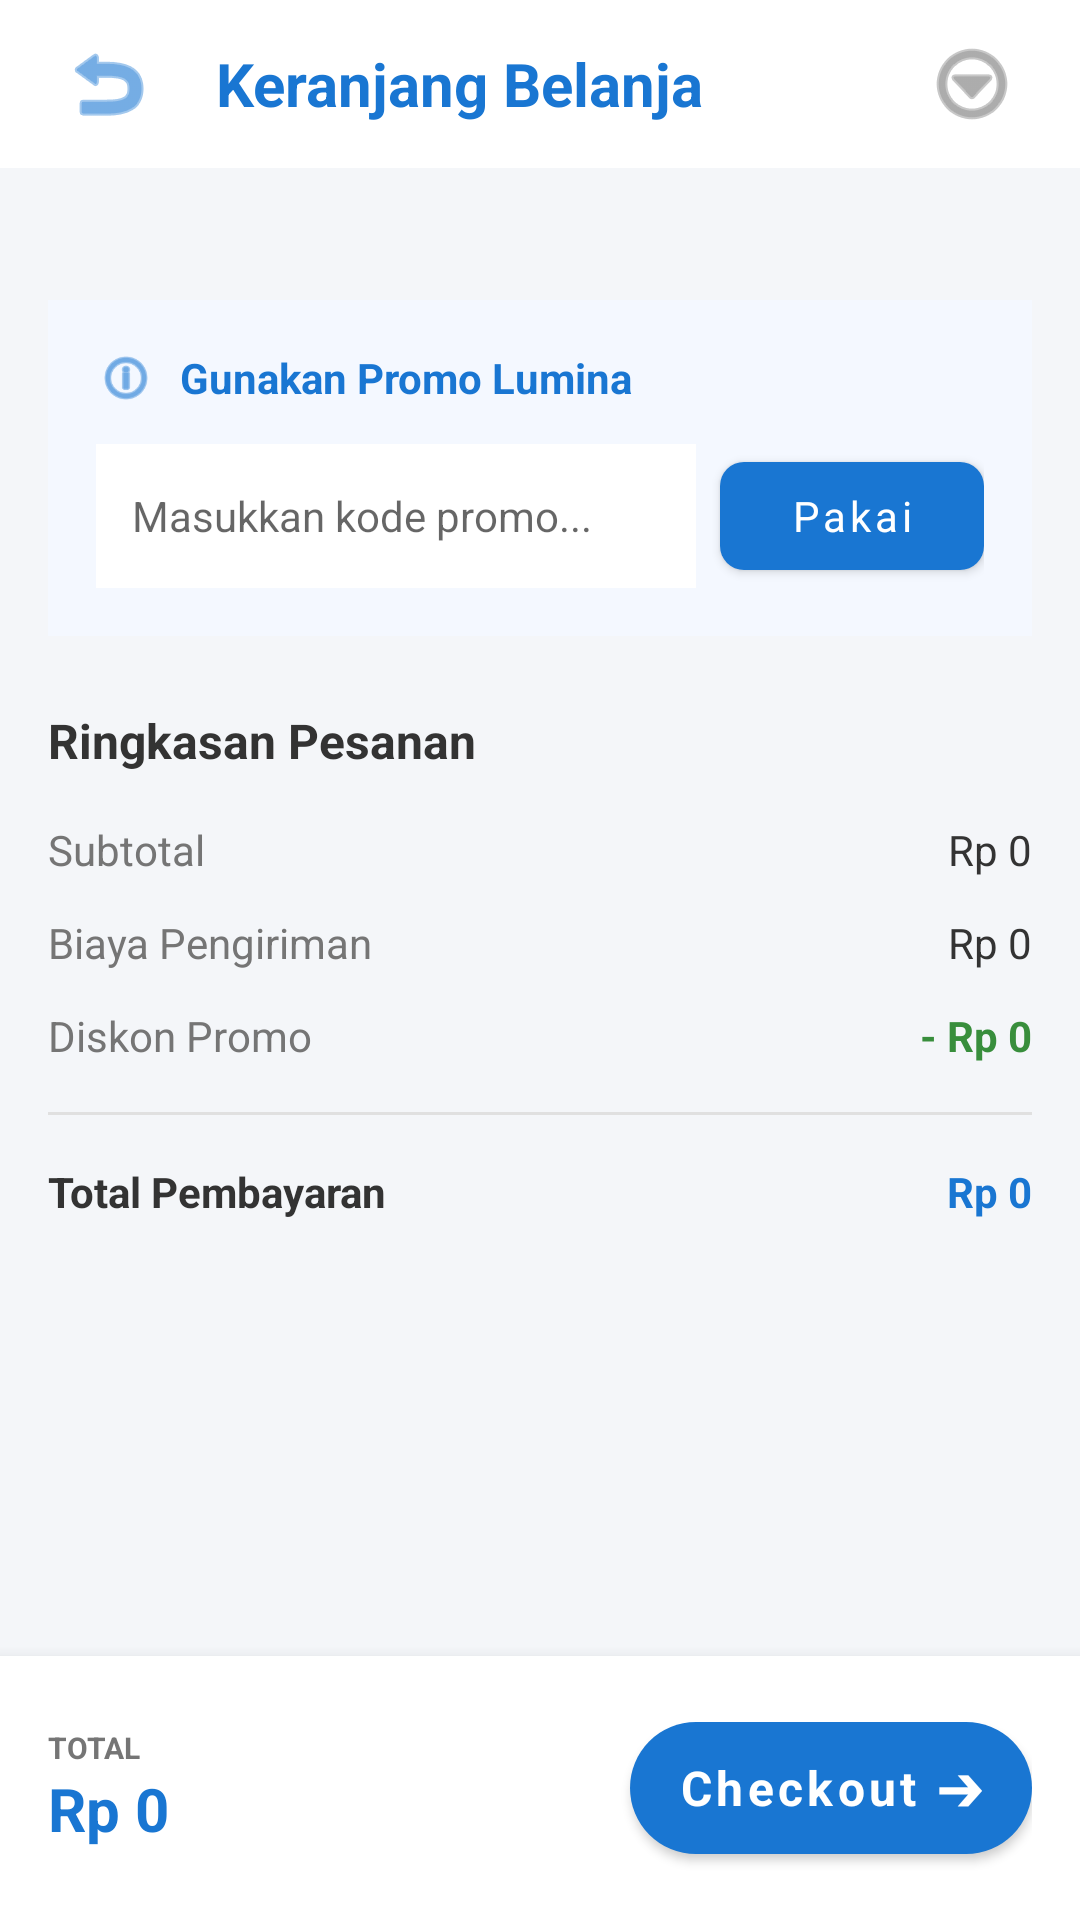

Where icons sit on this 1080w x 1920h app screen, as [x1=x1, y1=y1, x2=x2, y2=y2]:
info details: [x1=104, y1=356, x2=148, y2=400]
more: [x1=937, y1=49, x2=1007, y2=119]
revert: [x1=75, y1=53, x2=144, y2=116]
